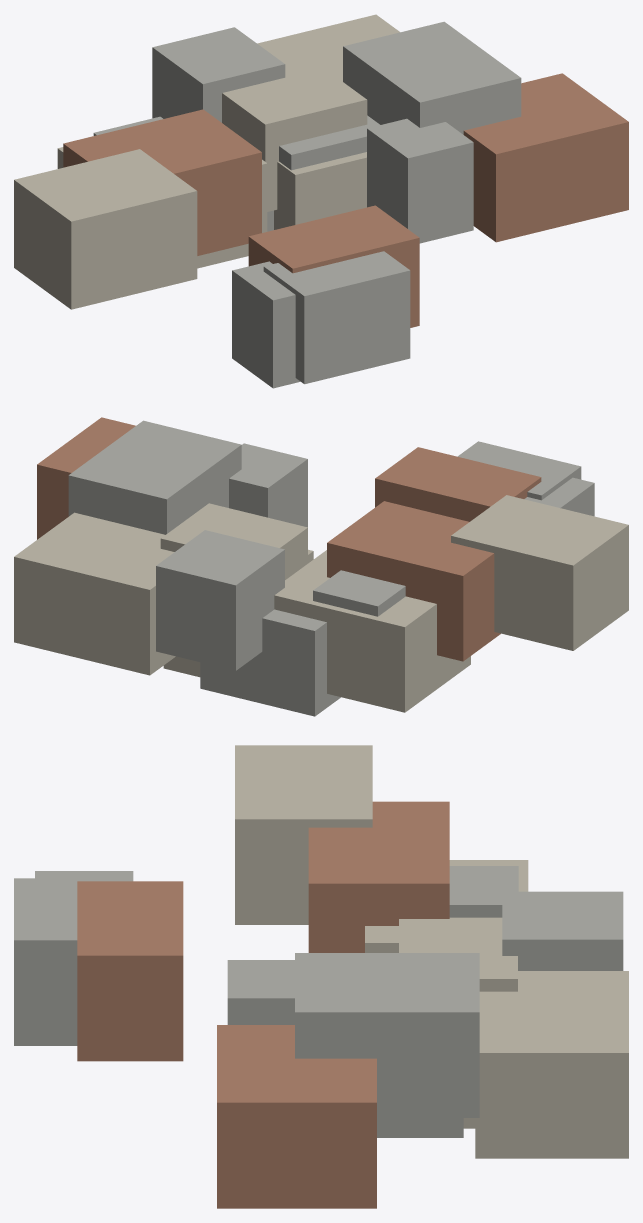
The model's file is rubble_pile.glb.
3 renders of one model, top to bottom at view 1: azimuth 30°, elevation 25°; view 2: azimuth 150°, elevation 25°; view 3: azimuth 270°, elevation 25°, orthographic. The views are drawn at different scales.
Visible parts, largest first — view 1: body; view 2: body; view 3: body.
Part boxes in pixels (x1=…): body: x1=14, y1=14, x2=628, y2=388; body: x1=14, y1=417, x2=628, y2=716; body: x1=14, y1=745, x2=628, y2=1208.
Bounding box in the file's own units: 1.31 × 0.3515 × 1.05.
